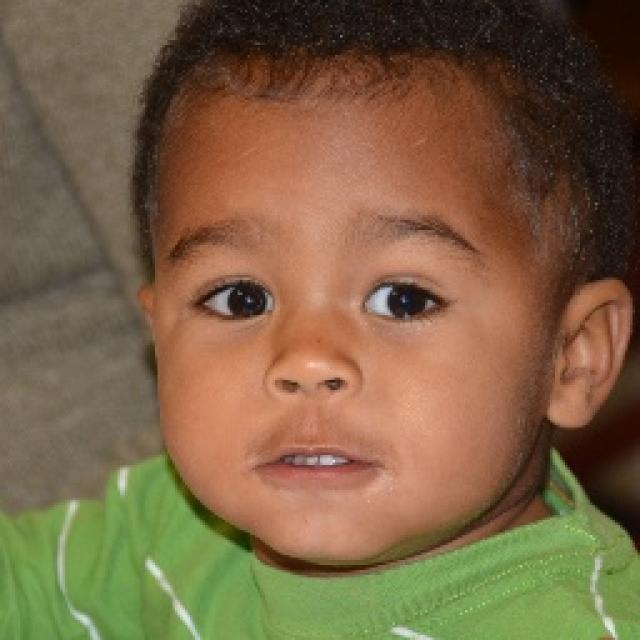earlobe: (544, 390, 600, 430)
eye: (356, 277, 454, 325), (198, 281, 275, 324)
nose: (266, 379, 366, 429)
wholeear: (542, 278, 636, 429), (138, 284, 158, 343)
